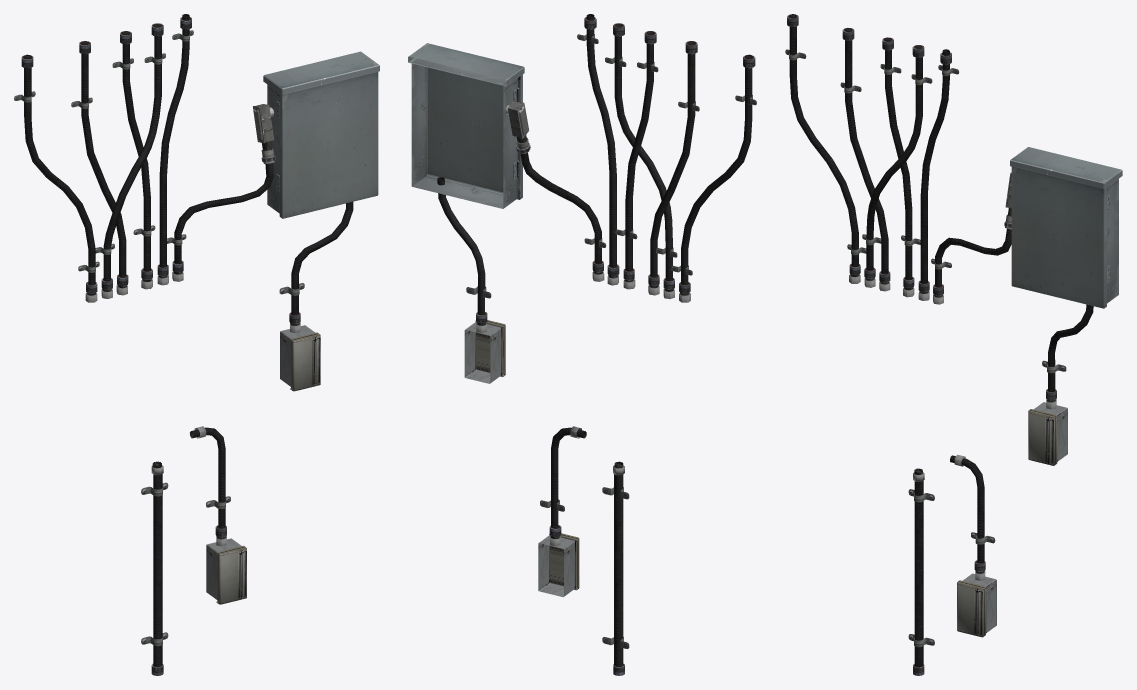
The model's file is fuse_box-3_wires-2.FBX.
The picture shows the model from 3 angles, left to right: view 1: azimuth 30°, elevation 25°; view 2: azimuth 150°, elevation 25°; view 3: azimuth 330°, elevation 25°; orthographic projection. The views are drawn at different scales.
Parts seen in each view (by area): view 1: fuse_box-3C_LOD0; view 2: fuse_box-3C_LOD0; view 3: fuse_box-3C_LOD0.
Part boxes in pixels (x1,y1,x2,y2): fuse_box-3C_LOD0: (14,14,379,675); fuse_box-3C_LOD0: (408,14,756,675); fuse_box-3C_LOD0: (785,14,1122,675).
Size of what is drawn, in the model's own units: 70.49 by 126 by 6.59.
